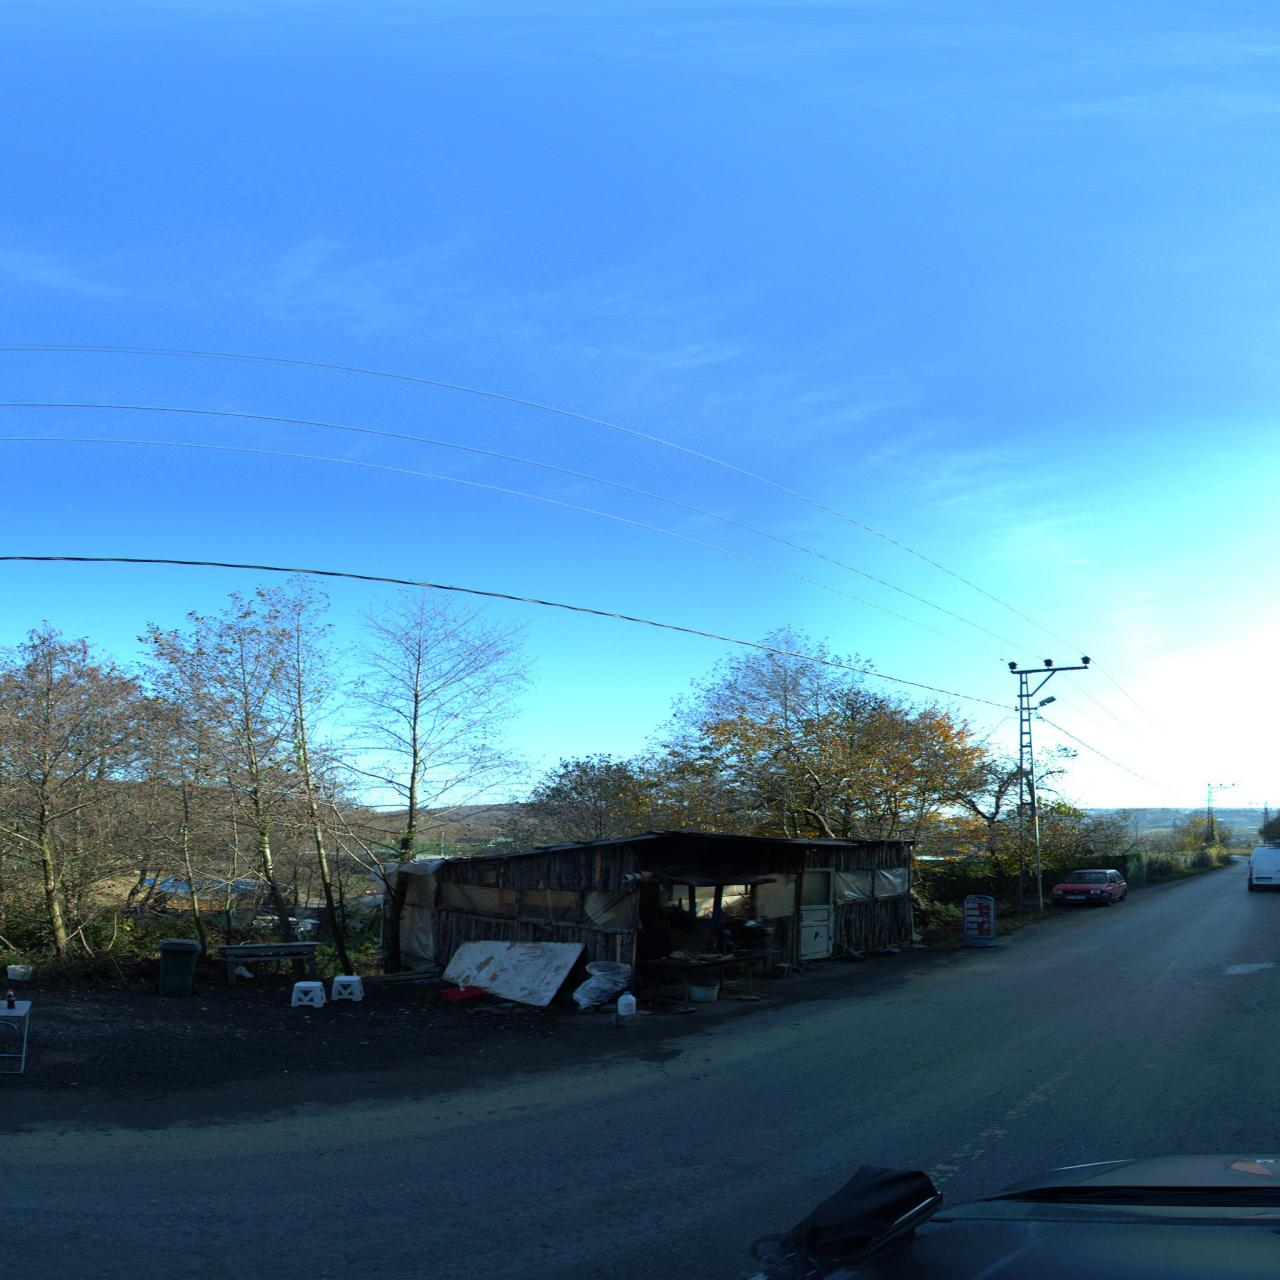Utility Pole Information Plate: (1035, 817, 1039, 824)
